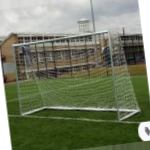goals: (12, 29, 141, 121)
